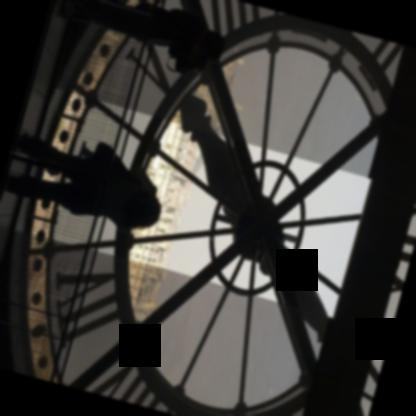handbag: (86, 141, 130, 184)
